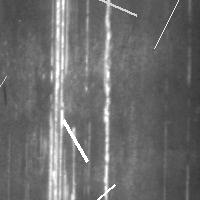scratches: (46, 1, 79, 199), (99, 1, 115, 199), (149, 0, 198, 53), (58, 115, 92, 166), (61, 180, 119, 200), (92, 0, 141, 20), (0, 71, 11, 135)
